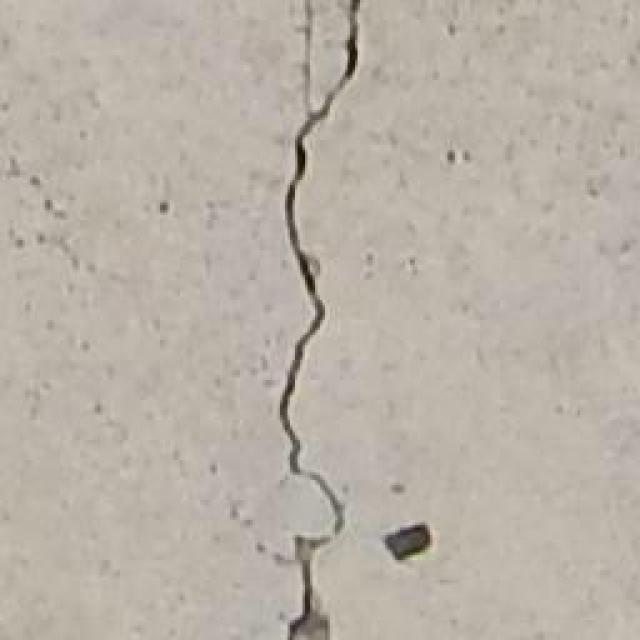concrete-crack: (278, 0, 362, 640)
